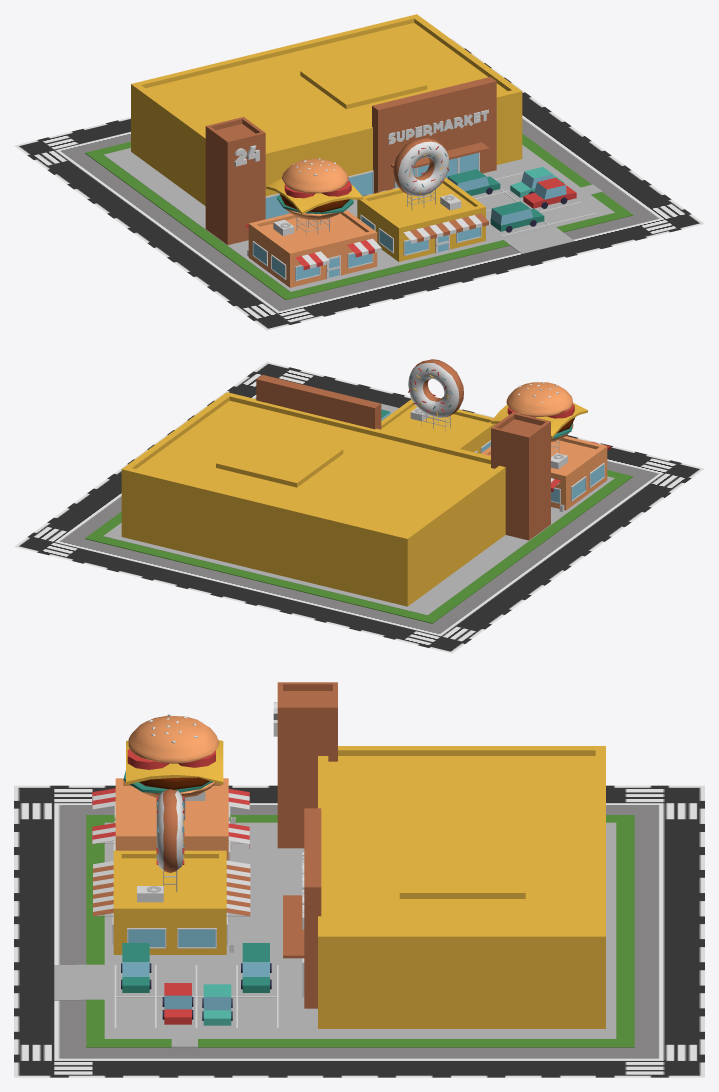
The model's file is Markets_BO.fbx.
3 views of the same model, one above another, from view 1: azimuth 30°, elevation 25°; view 2: azimuth 150°, elevation 25°; view 3: azimuth 270°, elevation 25° (orthographic). The views are drawn at different scales.
Visible parts, largest first — view 1: Box5420, Box5524, Box5407, Box5185, Box5495, Box5485, Sphere008, Torus003, Box5498, Box5489, Box5479, Plane003 (+7 smaller); view 2: Box5420, Box5524, Box5185, Box5407, Box5485, Sphere008, Box5495, Torus003, Box5498; view 3: Box5420, Box5524, Box5407, Box5185, Box5485, Sphere008, Box5495, Torus003, Box5408, Box5489, Box5470, Box5479 (+6 smaller).
Part boxes in pixels (x1=…): Box5420: x1=131, y1=14, x2=522, y2=244; Box5524: x1=14, y1=39, x2=704, y2=330; Box5407: x1=103, y1=145, x2=614, y2=291; Box5185: x1=85, y1=134, x2=633, y2=300; Box5495: x1=248, y1=210, x2=377, y2=287; Box5485: x1=357, y1=177, x2=485, y2=261; Sphere008: x1=266, y1=158, x2=363, y2=220; Torus003: x1=393, y1=138, x2=449, y2=196; Box5498: x1=252, y1=241, x2=373, y2=281; Box5489: x1=360, y1=214, x2=481, y2=255; Box5479: x1=490, y1=201, x2=544, y2=232; Plane003: x1=403, y1=213, x2=488, y2=243; Box5420: x1=121, y1=374, x2=550, y2=606; Box5524: x1=14, y1=362, x2=704, y2=653; Box5185: x1=85, y1=470, x2=633, y2=623; Box5407: x1=103, y1=476, x2=614, y2=615; Box5485: x1=381, y1=399, x2=496, y2=453; Sphere008: x1=491, y1=381, x2=587, y2=442; Box5495: x1=480, y1=436, x2=607, y2=510; Torus003: x1=408, y1=359, x2=463, y2=417; Box5498: x1=551, y1=463, x2=604, y2=503; Box5420: x1=277, y1=682, x2=605, y2=1028; Box5524: x1=14, y1=785, x2=704, y2=1077; Box5407: x1=104, y1=822, x2=616, y2=1038; Box5185: x1=86, y1=815, x2=634, y2=1047; Box5485: x1=113, y1=850, x2=226, y2=954; Sphere008: x1=123, y1=714, x2=223, y2=797; Box5495: x1=115, y1=778, x2=228, y2=860; Torus003: x1=156, y1=789, x2=183, y2=872; Box5408: x1=54, y1=964, x2=104, y2=1000; Box5489: x1=112, y1=912, x2=228, y2=948; Box5470: x1=241, y1=943, x2=271, y2=992; Box5479: x1=121, y1=943, x2=151, y2=992.
Size of the model in its own units: 1000 by 237 by 1000.
